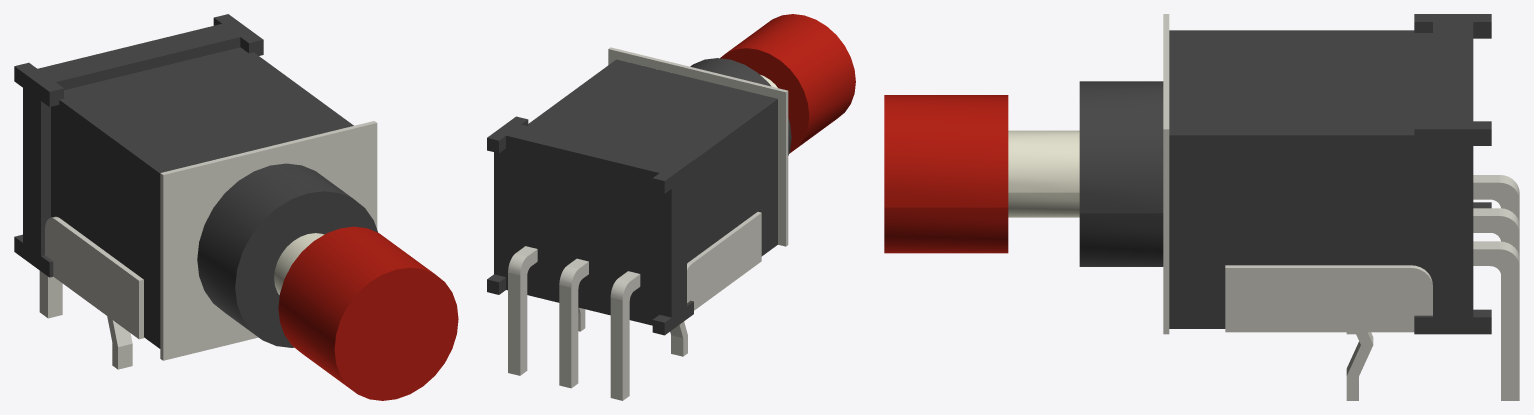
Rendered from kc-sw_nkk_bb15ah.glb.
3 views of the same model, side by side, from view 1: azimuth 30°, elevation 25°; view 2: azimuth 150°, elevation 25°; view 3: azimuth 270°, elevation 25° (orthographic). The views are drawn at different scales.
Parts seen in each view (by area): view 1: 0.08333333333333333_0.08333333333333333_0.08333333333333333_, 0.6666666666666666_0.6666666666666666_0.5833333333333334_0.8, 0.4166666666666667_0_0_0, 0.75_0.75_0.6666666666666666_0; view 2: 0.08333333333333333_0.08333333333333333_0.08333333333333333_, 0.6666666666666666_0.6666666666666666_0.5833333333333334_0.8, 0.4166666666666667_0_0_0; view 3: 0.08333333333333333_0.08333333333333333_0.08333333333333333_, 0.6666666666666666_0.6666666666666666_0.5833333333333334_0.8, 0.4166666666666667_0_0_0, 0.75_0.75_0.6666666666666666_0.
Boxes of the visible parts, <box> form: 0.08333333333333333_0.08333333333333333_0.08333333333333333_: <box>14,14,377,348</box>; 0.6666666666666666_0.6666666666666666_0.5833333333333334_0.8: <box>39,121,377,369</box>; 0.4166666666666667_0_0_0: <box>278,226,458,400</box>; 0.75_0.75_0.6666666666666666_0: <box>274,233,324,294</box>; 0.08333333333333333_0.08333333333333333_0.08333333333333333_: <box>487,58,791,335</box>; 0.6666666666666666_0.6666666666666666_0.5833333333333334_0.8: <box>508,47,788,400</box>; 0.4166666666666667_0_0_0: <box>720,14,855,153</box>; 0.08333333333333333_0.08333333333333333_0.08333333333333333_: <box>1079,14,1491,334</box>; 0.6666666666666666_0.6666666666666666_0.5833333333333334_0.8: <box>1163,14,1519,400</box>; 0.4166666666666667_0_0_0: <box>884,95,1008,253</box>; 0.75_0.75_0.6666666666666666_0: <box>1008,130,1079,217</box>.
Size of the model in its own units: 0.8801 by 1.04 by 2.05.
